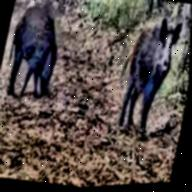boar: (103, 12, 186, 150), (0, 0, 76, 110)
